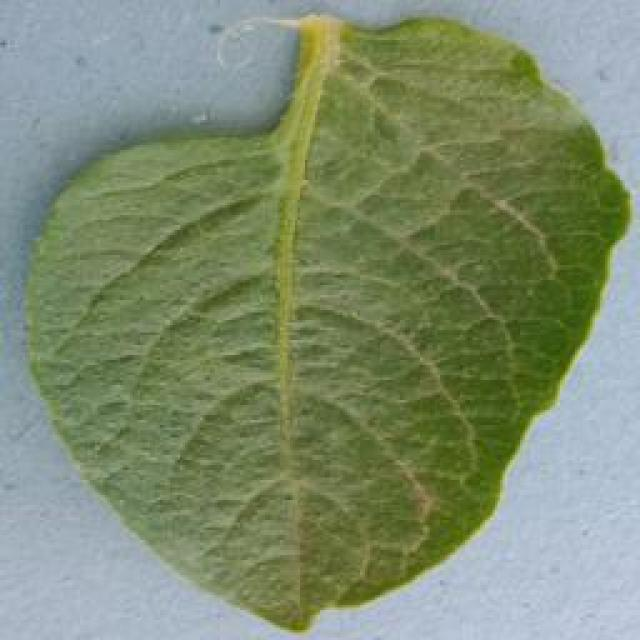Potato_Healthy: (7, 11, 635, 637)
